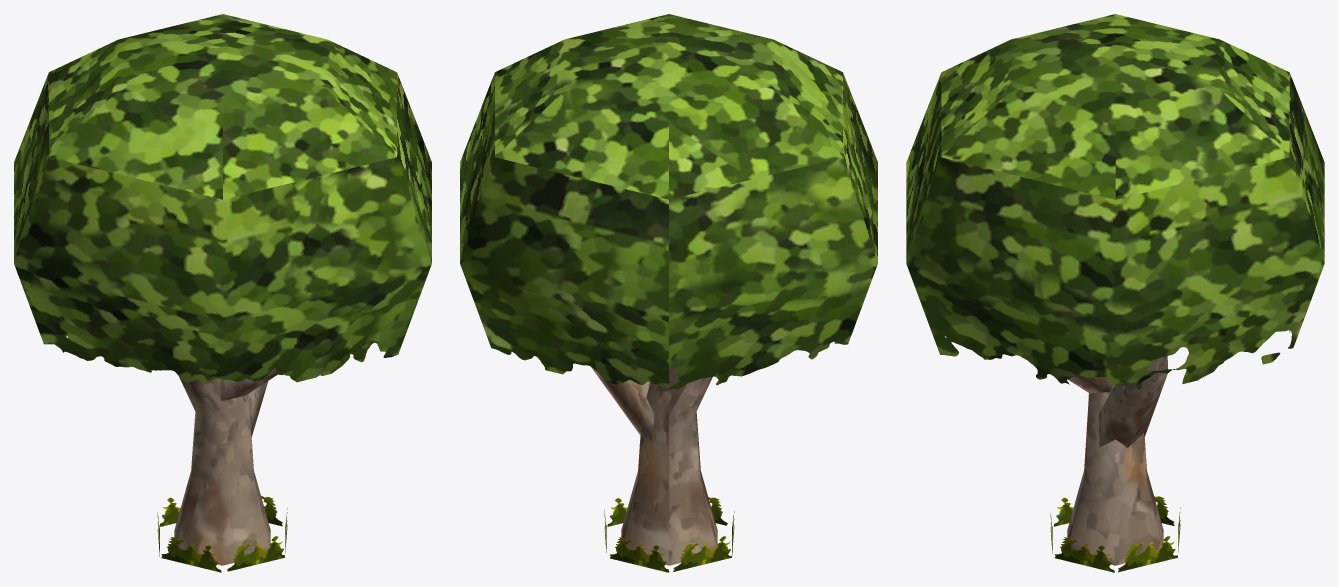
The model's file is arbol_03.FBX.
The picture shows the model from 3 angles, left to right: view 1: azimuth 30°, elevation 25°; view 2: azimuth 150°, elevation 25°; view 3: azimuth 270°, elevation 25°; orthographic projection.
Visible parts, largest first — view 1: Arbol_01; view 2: Arbol_01; view 3: Arbol_01.
Boxes of the visible parts, x1=… form: Arbol_01: x1=14, y1=14, x2=431, y2=572; Arbol_01: x1=460, y1=14, x2=877, y2=572; Arbol_01: x1=906, y1=14, x2=1324, y2=572.
Bounding box in the file's own units: 2.81 × 2.44 × 3.17.
1 material, 1 textured.
